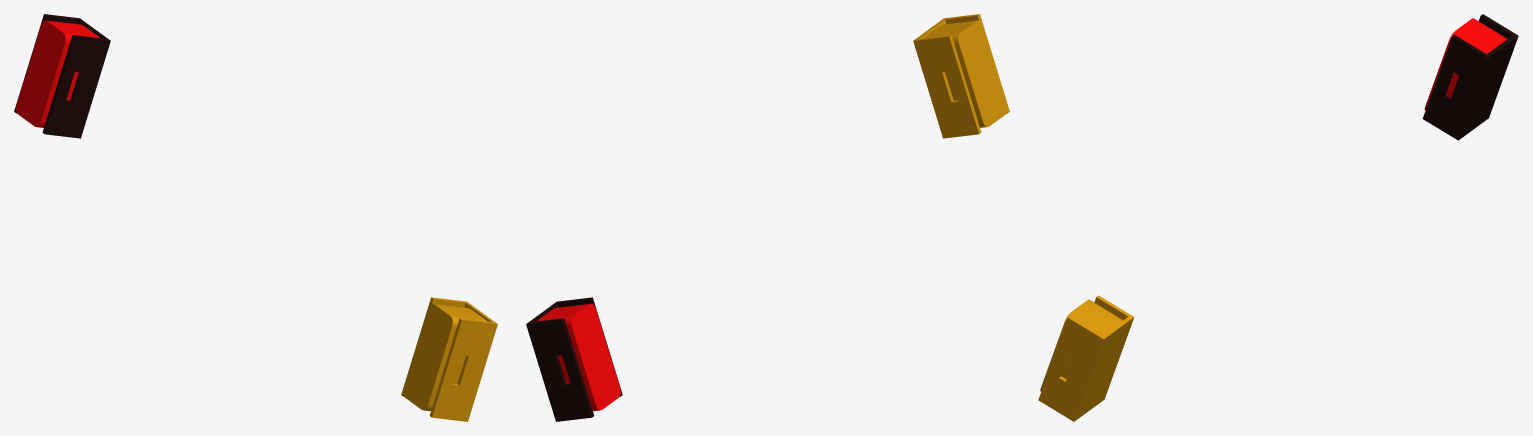
The model's file is front turn signal.FBX.
3 views of the same model, side by side, from view 1: azimuth 30°, elevation 25°; view 2: azimuth 150°, elevation 25°; view 3: azimuth 330°, elevation 25° (orthographic).
Parts seen in each view (by area): view 1: Box228, Box226, Box229, Box227; view 2: Box226, Box228, Box227, Box229; view 3: Box226, Box228, Box229, Box227.
Boxes of the visible parts, x1,y1,x2,y2 form: Box228: [401, 297, 497, 421]; Box226: [14, 14, 110, 138]; Box229: [403, 303, 486, 411]; Box227: [16, 20, 99, 127]; Box226: [526, 297, 622, 421]; Box228: [913, 14, 1009, 138]; Box227: [537, 303, 620, 411]; Box229: [924, 20, 1007, 127]; Box226: [1422, 14, 1518, 140]; Box228: [1038, 295, 1134, 421]; Box229: [1040, 299, 1122, 391]; Box227: [1424, 18, 1507, 110].
Bounding box in the file's own units: 3.56 × 5.11 × 37.37.
